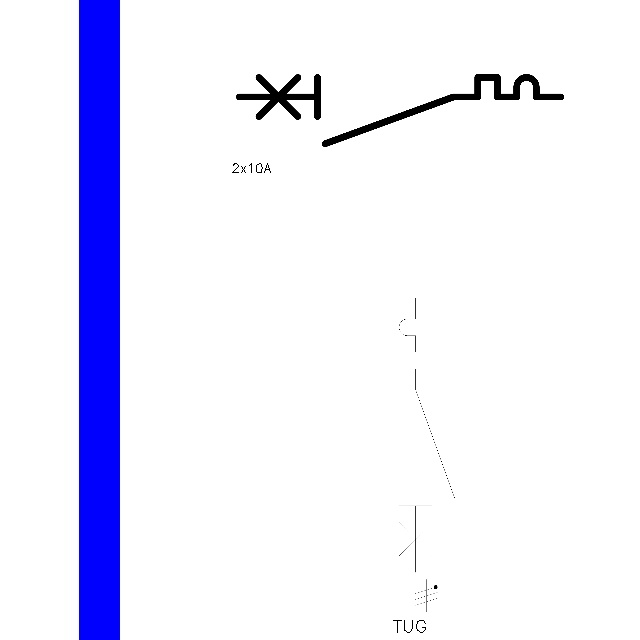interruptor_termomagnetico: (231, 69, 569, 151), (392, 291, 462, 579)
